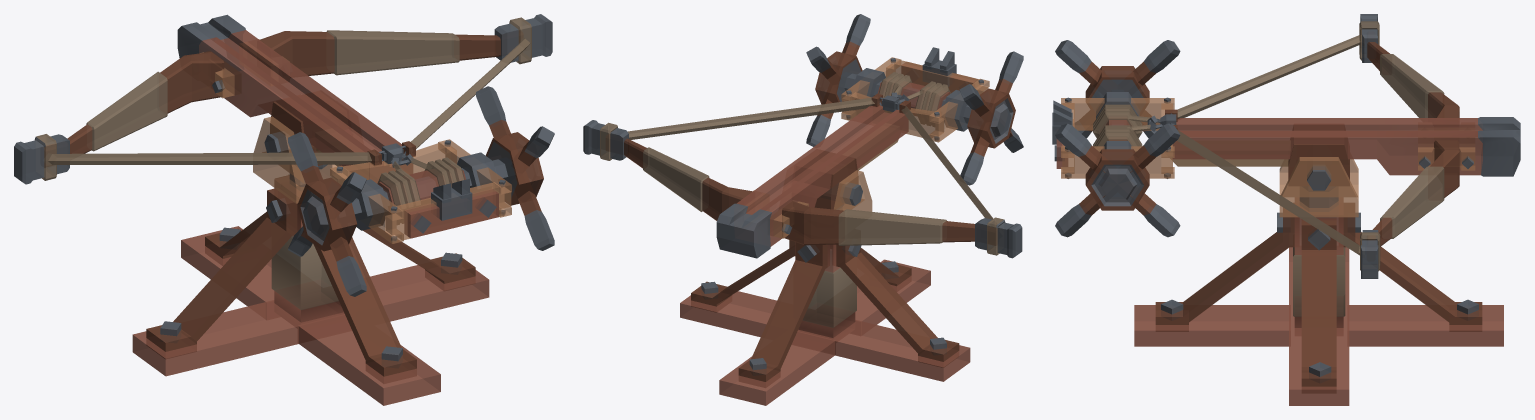
File: Ballista.fbx
The picture shows the model from 3 angles, left to right: view 1: azimuth 30°, elevation 25°; view 2: azimuth 150°, elevation 25°; view 3: azimuth 270°, elevation 25°; orthographic projection. The views are drawn at different scales.
Parts seen in each view (by area): view 1: Cube.002; view 2: Cube.002; view 3: Cube.002.
Boxes of the visible parts, bbox=[...] form: Cube.002: bbox=[14, 14, 554, 405]; Cube.002: bbox=[583, 14, 1023, 405]; Cube.002: bbox=[1052, 14, 1520, 405].
Bounding box in the file's own units: 610 × 304 × 511.
